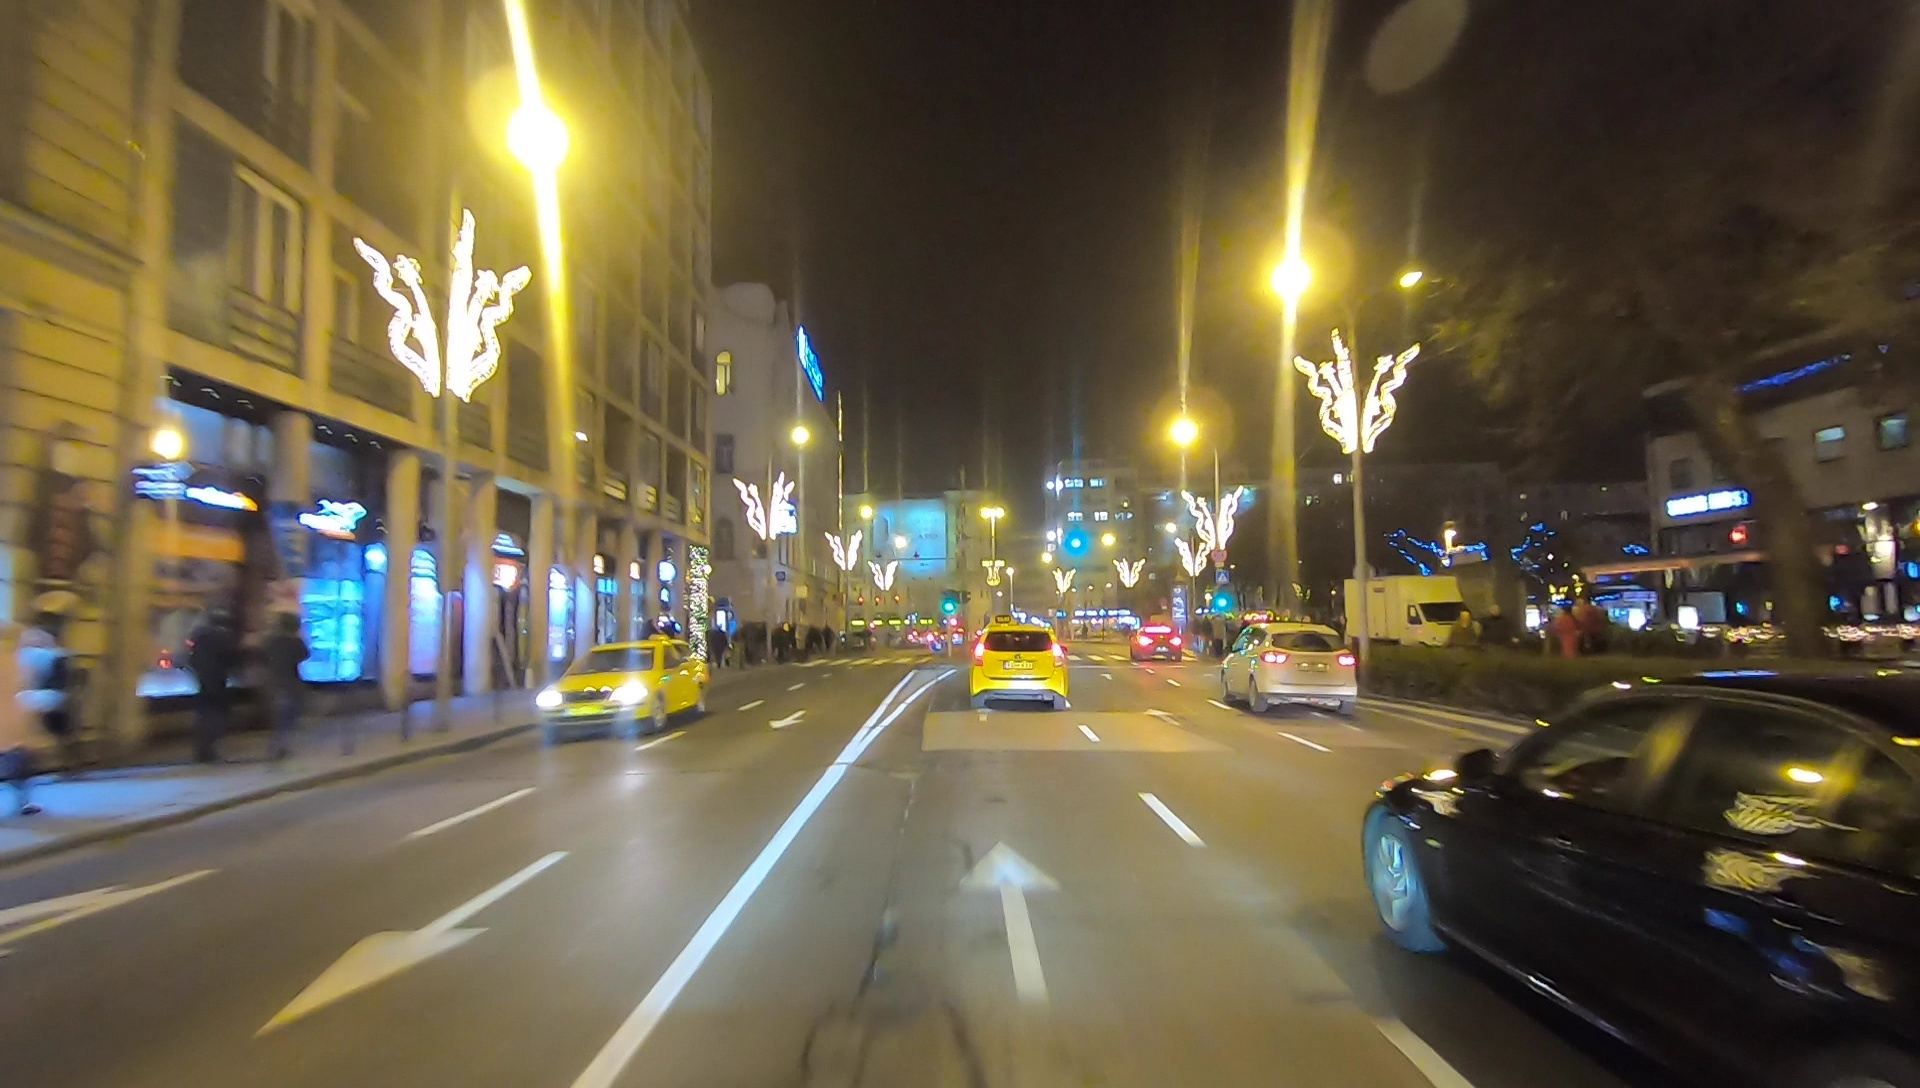person: (258, 610, 314, 769), (184, 608, 236, 776)
